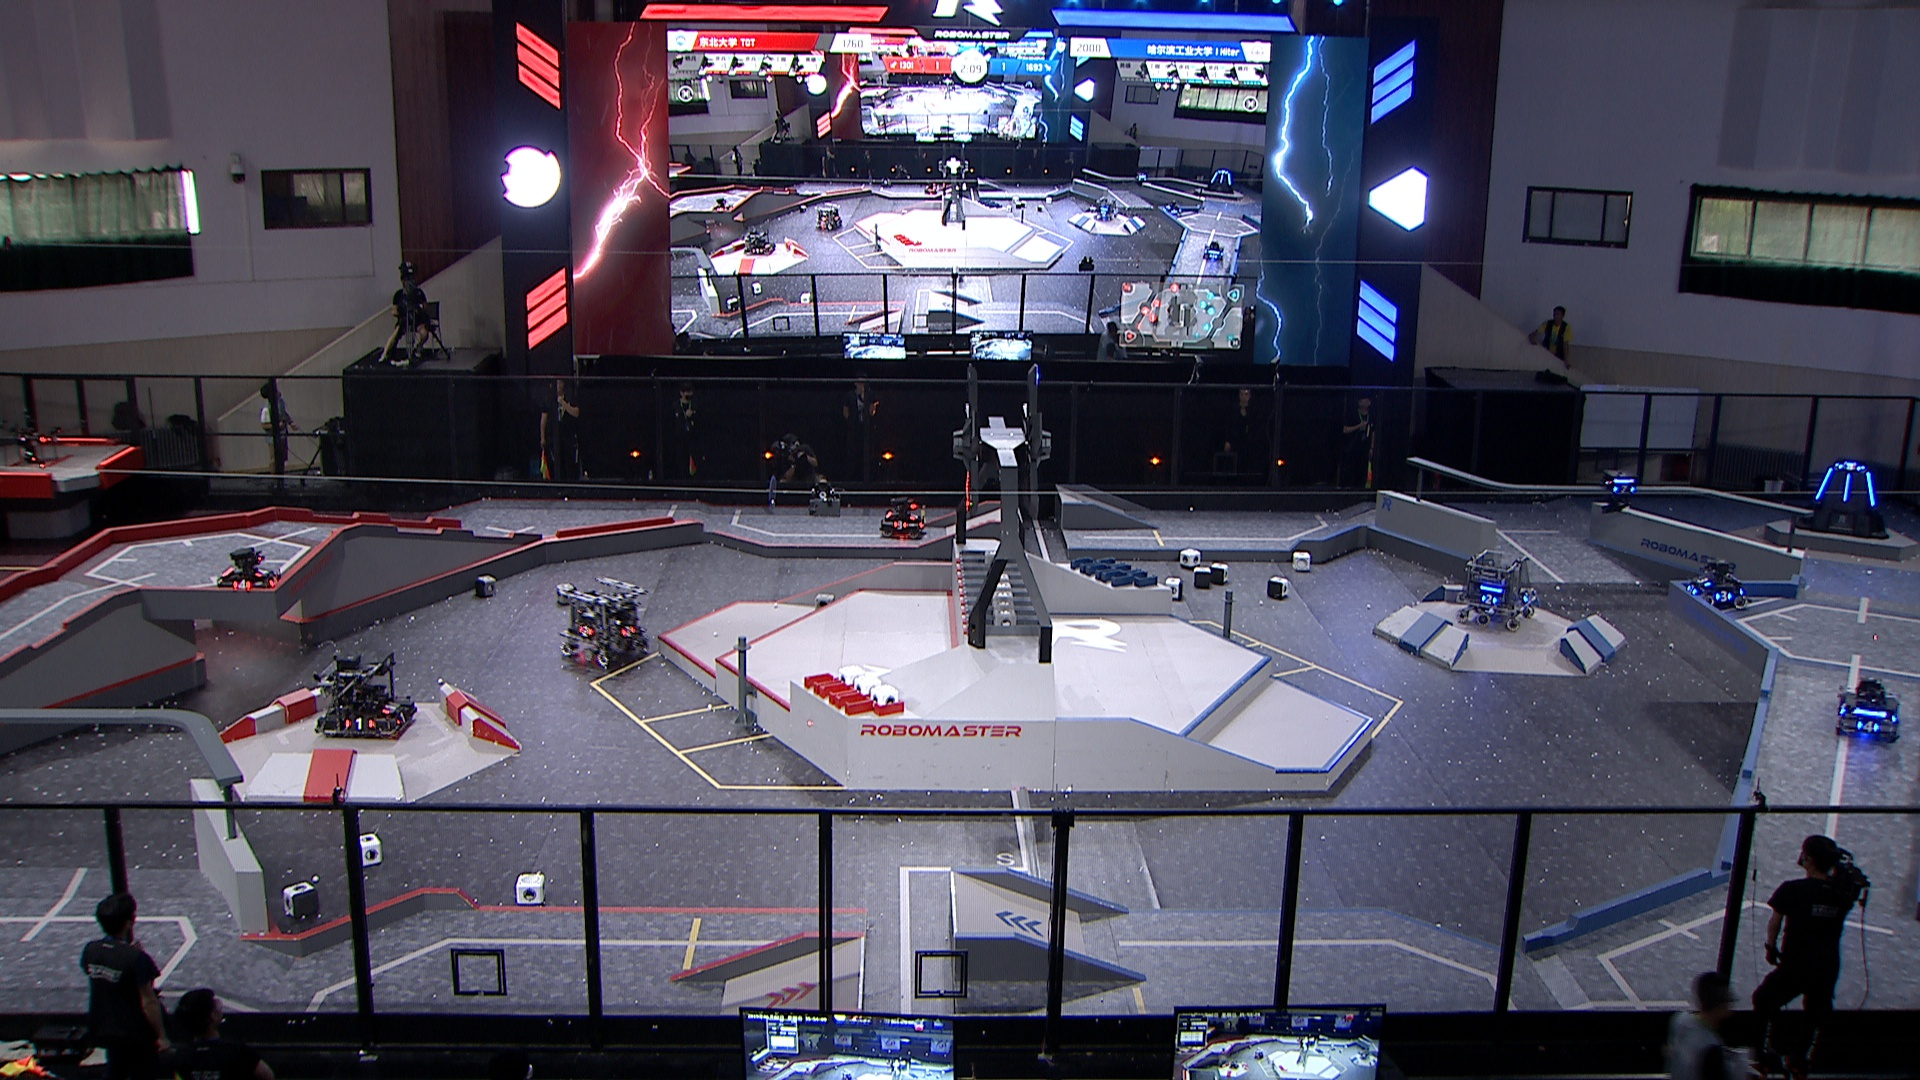armor: (1812, 465, 1836, 502), (1861, 465, 1879, 508), (340, 716, 380, 732), (1855, 716, 1882, 735), (1840, 469, 1854, 501), (378, 698, 401, 717), (390, 708, 410, 728), (229, 575, 253, 591), (1609, 483, 1636, 496), (1477, 591, 1499, 607), (575, 622, 593, 641), (252, 562, 272, 579), (887, 517, 909, 531), (1837, 462, 1865, 472), (618, 622, 638, 637), (1712, 588, 1731, 603), (1695, 572, 1712, 588), (905, 509, 923, 524), (266, 567, 281, 585), (1518, 589, 1534, 604), (1684, 582, 1698, 597), (1837, 700, 1849, 719)
base: (1792, 458, 1894, 542)
car: (309, 647, 422, 738), (555, 574, 655, 671), (1452, 546, 1536, 633), (1830, 674, 1904, 744), (1681, 556, 1750, 613), (214, 545, 284, 593), (877, 496, 930, 542)
ignore: (744, 225, 775, 258), (1204, 166, 1238, 194), (812, 200, 844, 229), (1091, 195, 1121, 224), (1199, 237, 1229, 262), (707, 196, 733, 215), (1164, 199, 1185, 218), (922, 179, 942, 196), (1134, 169, 1149, 186)
watcher: (1596, 465, 1638, 514)
